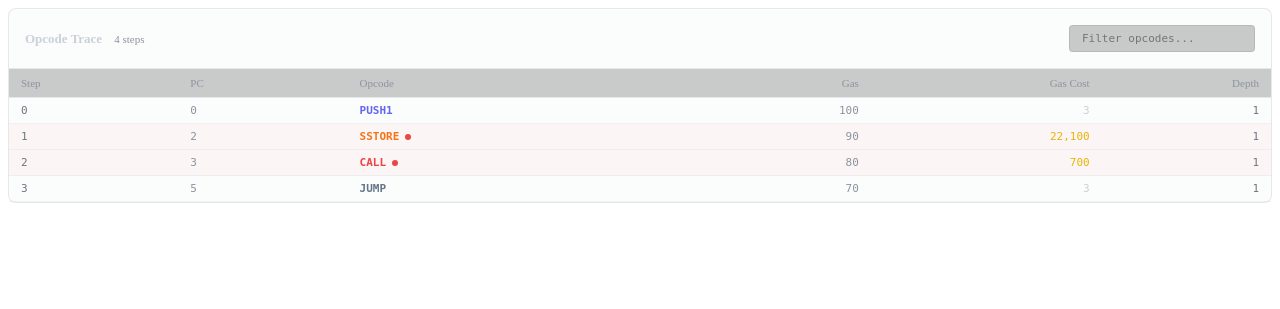
OpcodeViewer › expands a row on click and shows its stack
The width and height of the screenshot is (1280, 309).
Expected: the text "Stack (3 items)" is not shown
Click the text "CALL".
click(373, 162)  # box [360,156,386,169]
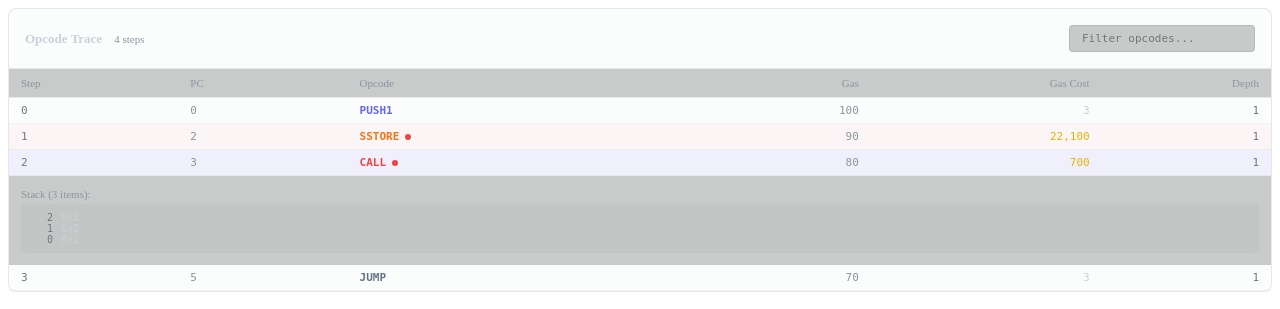
Expected: the text "Stack (3 items):" is shown, [21,188,91,200]
